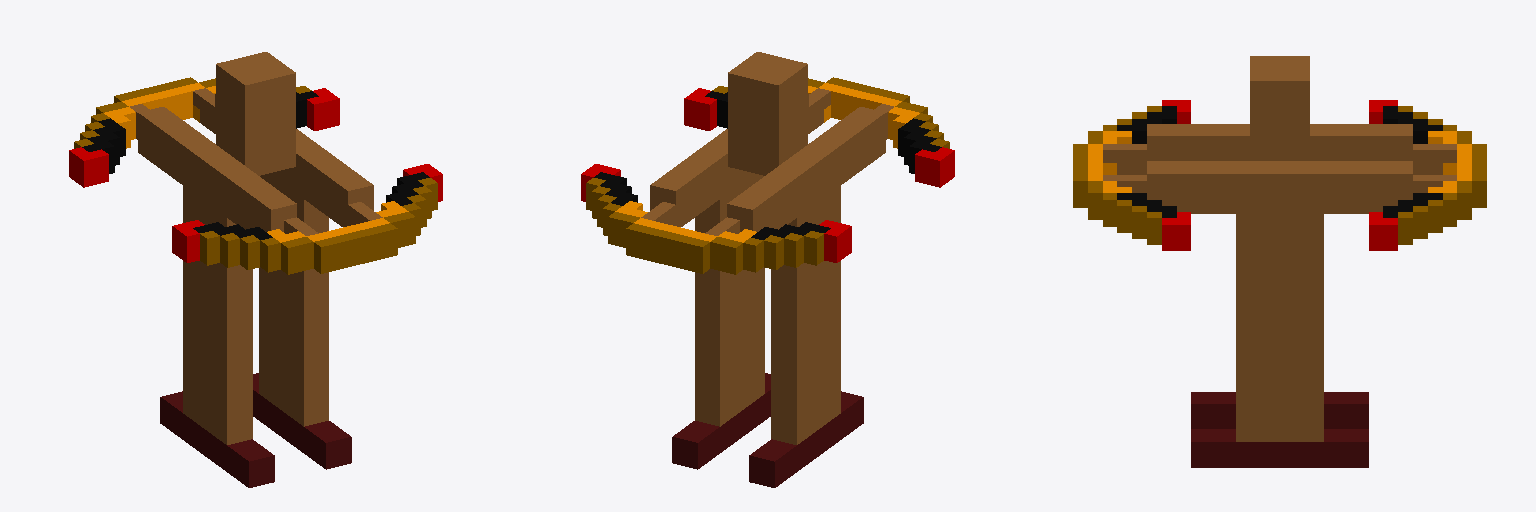
The picture shows the model from 3 angles: view 1: azimuth 30°, elevation 25°; view 2: azimuth 150°, elevation 25°; view 3: azimuth 270°, elevation 25°; orthographic projection.
Parts seen in each view (by area): view 1: BouncingTower0_Top; view 2: BouncingTower0_Top; view 3: BouncingTower0_Top.
Boxes of the visible parts, x1=… form: BouncingTower0_Top: x1=69, y1=52, x2=442, y2=487; BouncingTower0_Top: x1=581, y1=52, x2=954, y2=487; BouncingTower0_Top: x1=1073, y1=56, x2=1486, y2=467.
Bounding box in the file's own units: 20 × 28 × 28.
Materials: 1 (1 with a texture image).